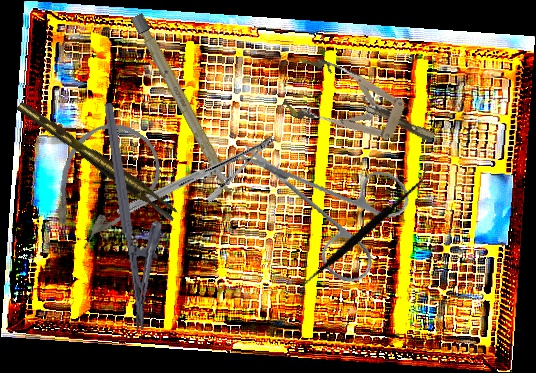Cannula: (28, 106, 177, 264)
Iris Scissors: (235, 109, 425, 302)
Needle Holder: (115, 87, 278, 265), (102, 98, 177, 331)
Scalpel Handle: (130, 12, 237, 197)
Spatula Surgical: (297, 141, 428, 322)
Speculum: (279, 51, 445, 169)
Tissue Forceps: (16, 93, 180, 227)
